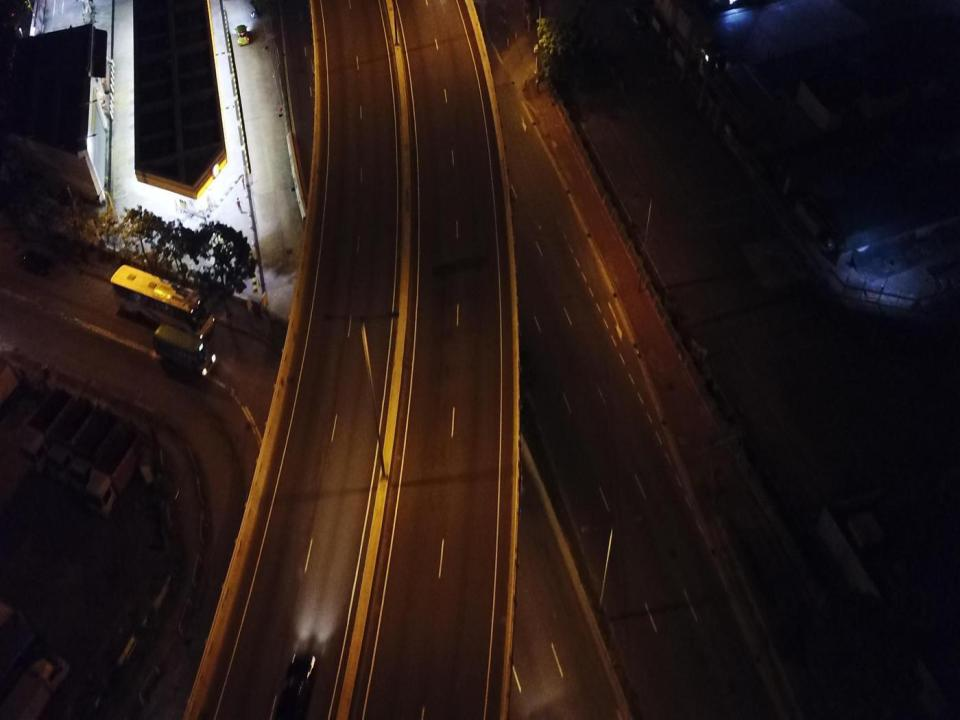bus: (110, 261, 216, 338)
car: (272, 656, 314, 719), (18, 248, 49, 275), (235, 23, 251, 49)
truck: (86, 421, 142, 519), (2, 652, 70, 719), (49, 394, 94, 481), (20, 390, 64, 478), (70, 407, 114, 494)
van: (152, 324, 216, 380)
